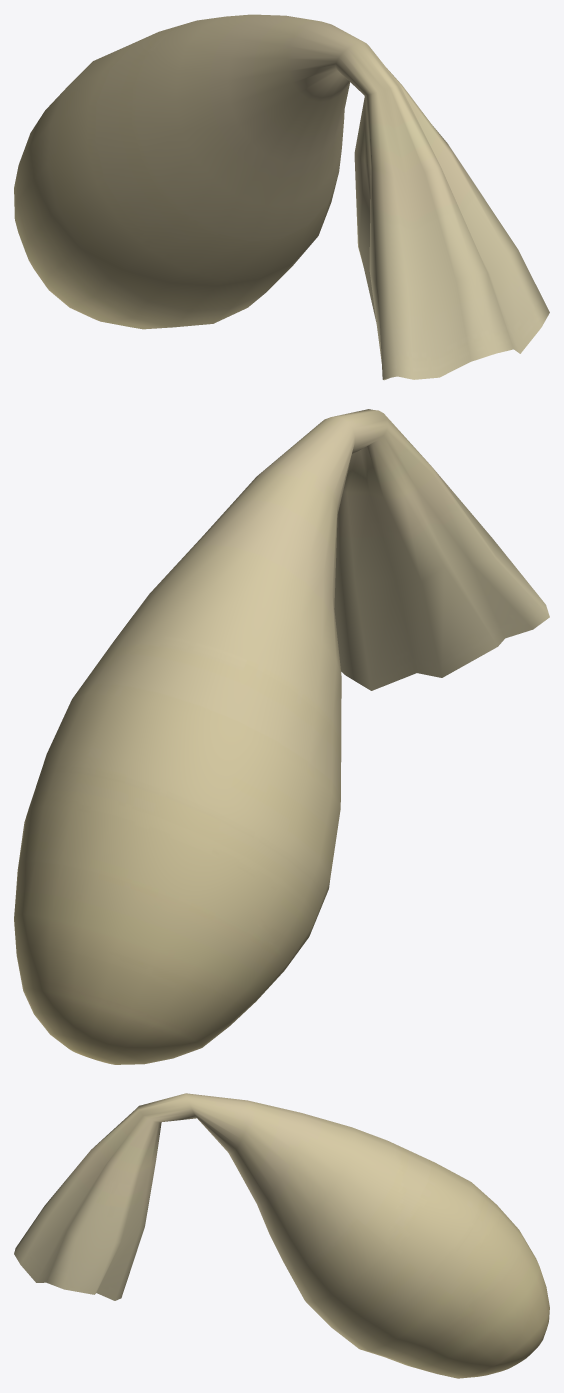
Rendered from bag00.fbx.
The picture shows the model from 3 angles, top to bottom: view 1: azimuth 30°, elevation 25°; view 2: azimuth 150°, elevation 25°; view 3: azimuth 270°, elevation 25°; orthographic projection. The views are drawn at different scales.
Visible parts, largest first — view 1: bag0; view 2: bag0; view 3: bag0.
Part boxes in pixels (x1,y1,x2,y2): bag0: (14, 14, 549, 380); bag0: (14, 409, 549, 1064); bag0: (14, 1093, 549, 1378).
Bounding box in the file's own units: 66.36 × 106 × 180.
